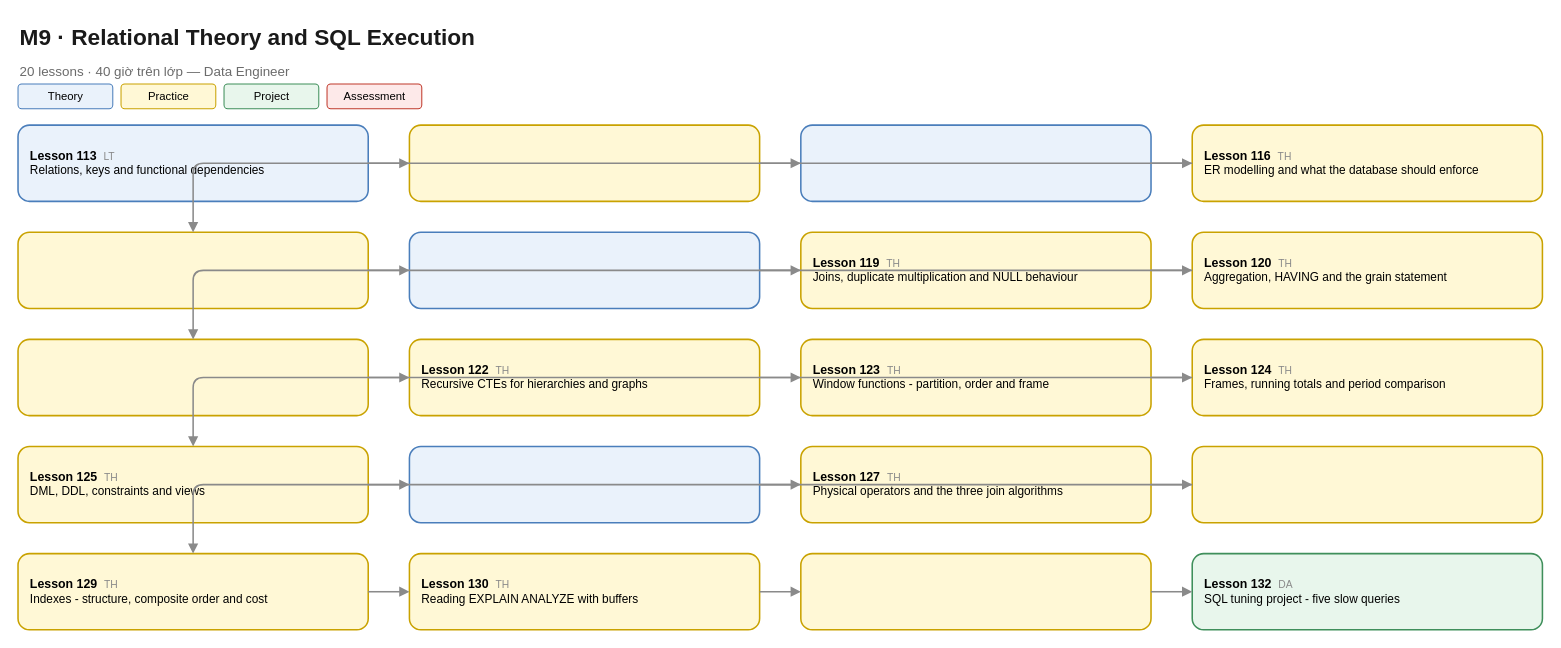
Image size: 1561x648. Some labels were removed from this diagram. Each missing label, with the box of its shape:
Lesson 114 TH NULL and three-valued logic: (408, 124, 760, 202)
Lesson 115 LT Relational algebra and logical equivalence: (800, 124, 1151, 202)
Lesson 117 TH Normalization to BCNF, and deliberate denormalization: (17, 231, 369, 309)
Lesson 118 LT Logical query processing order: (408, 231, 760, 309)
Lesson 121 TH Subqueries, CTEs and the materialization caveat: (17, 338, 369, 416)
Lesson 126 LT Inside the engine - from parser to executor: (408, 445, 760, 523)
Lesson 128 TH Statistics, selectivity and cardinality estimation: (1191, 445, 1543, 523)
Lesson 131 TH Sargability, parameters and plan stability: (800, 552, 1151, 630)
